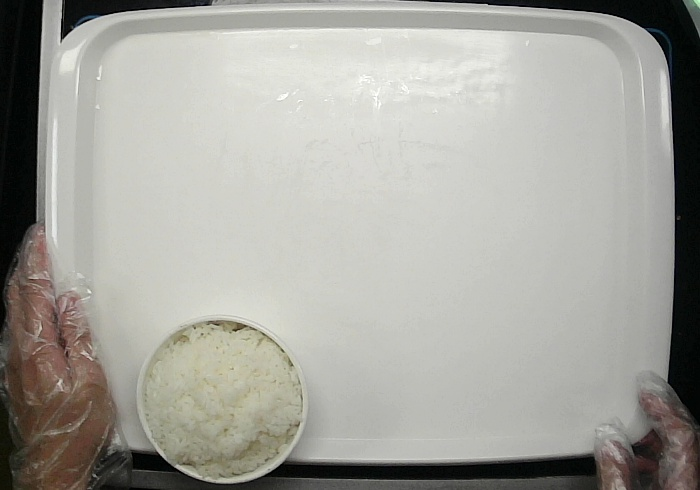HZYJPL-Fan_Wan: (135, 314, 310, 484)
